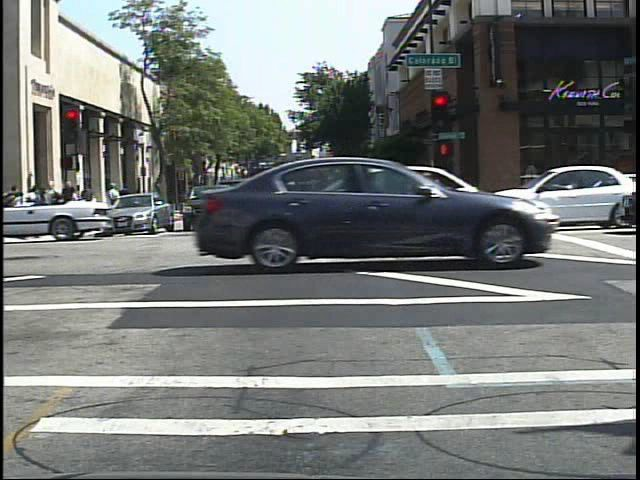person: (103, 179, 121, 225)
